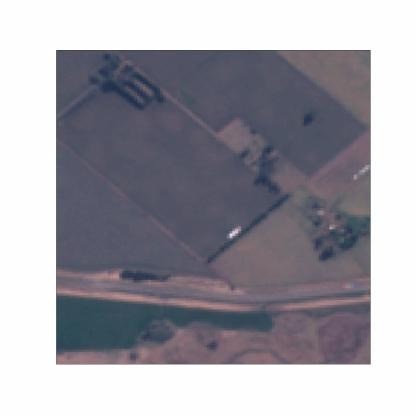silobolsa: (354, 164, 370, 179), (228, 228, 240, 240)
